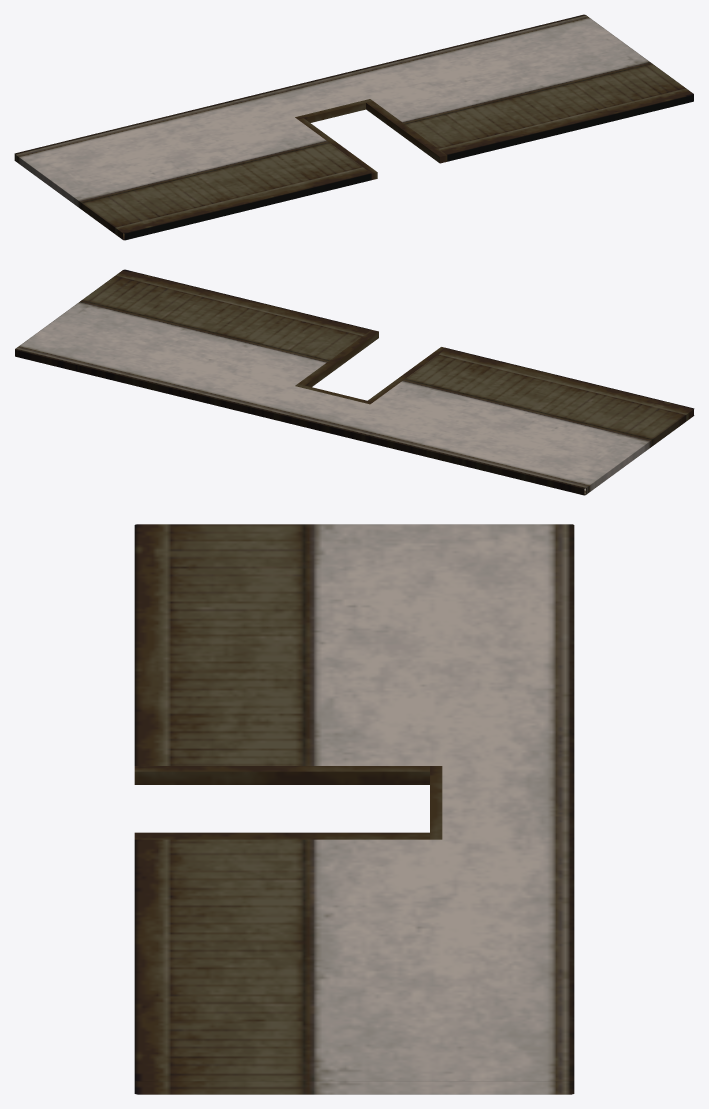
The model's file is SM_EC_House_Wall_9x3_DoorWay_5.fbx.
3 renders of one model, top to bottom at view 1: azimuth 30°, elevation 25°; view 2: azimuth 150°, elevation 25°; view 3: azimuth 270°, elevation 25°, orthographic. The views are drawn at different scales.
Parts seen in each view (by area): view 1: SM_EC_House_Wall_9x3_DoorWay_5; view 2: SM_EC_House_Wall_9x3_DoorWay_5; view 3: SM_EC_House_Wall_9x3_DoorWay_5.
Boxes of the visible parts, x1,y1,x2,y2 form: SM_EC_House_Wall_9x3_DoorWay_5: (14, 14, 693, 240); SM_EC_House_Wall_9x3_DoorWay_5: (15, 269, 694, 495); SM_EC_House_Wall_9x3_DoorWay_5: (134, 524, 574, 1094).
Bounding box in the file's own units: 9 × 3 × 0.1.
